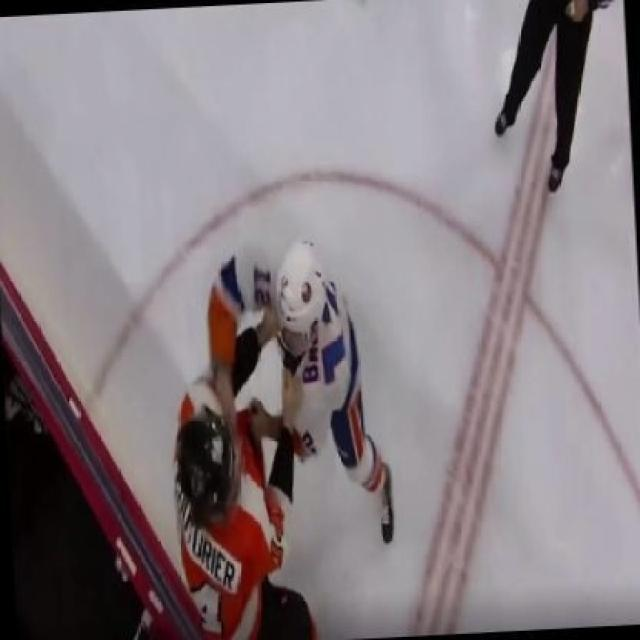fight: (144, 221, 394, 639)
